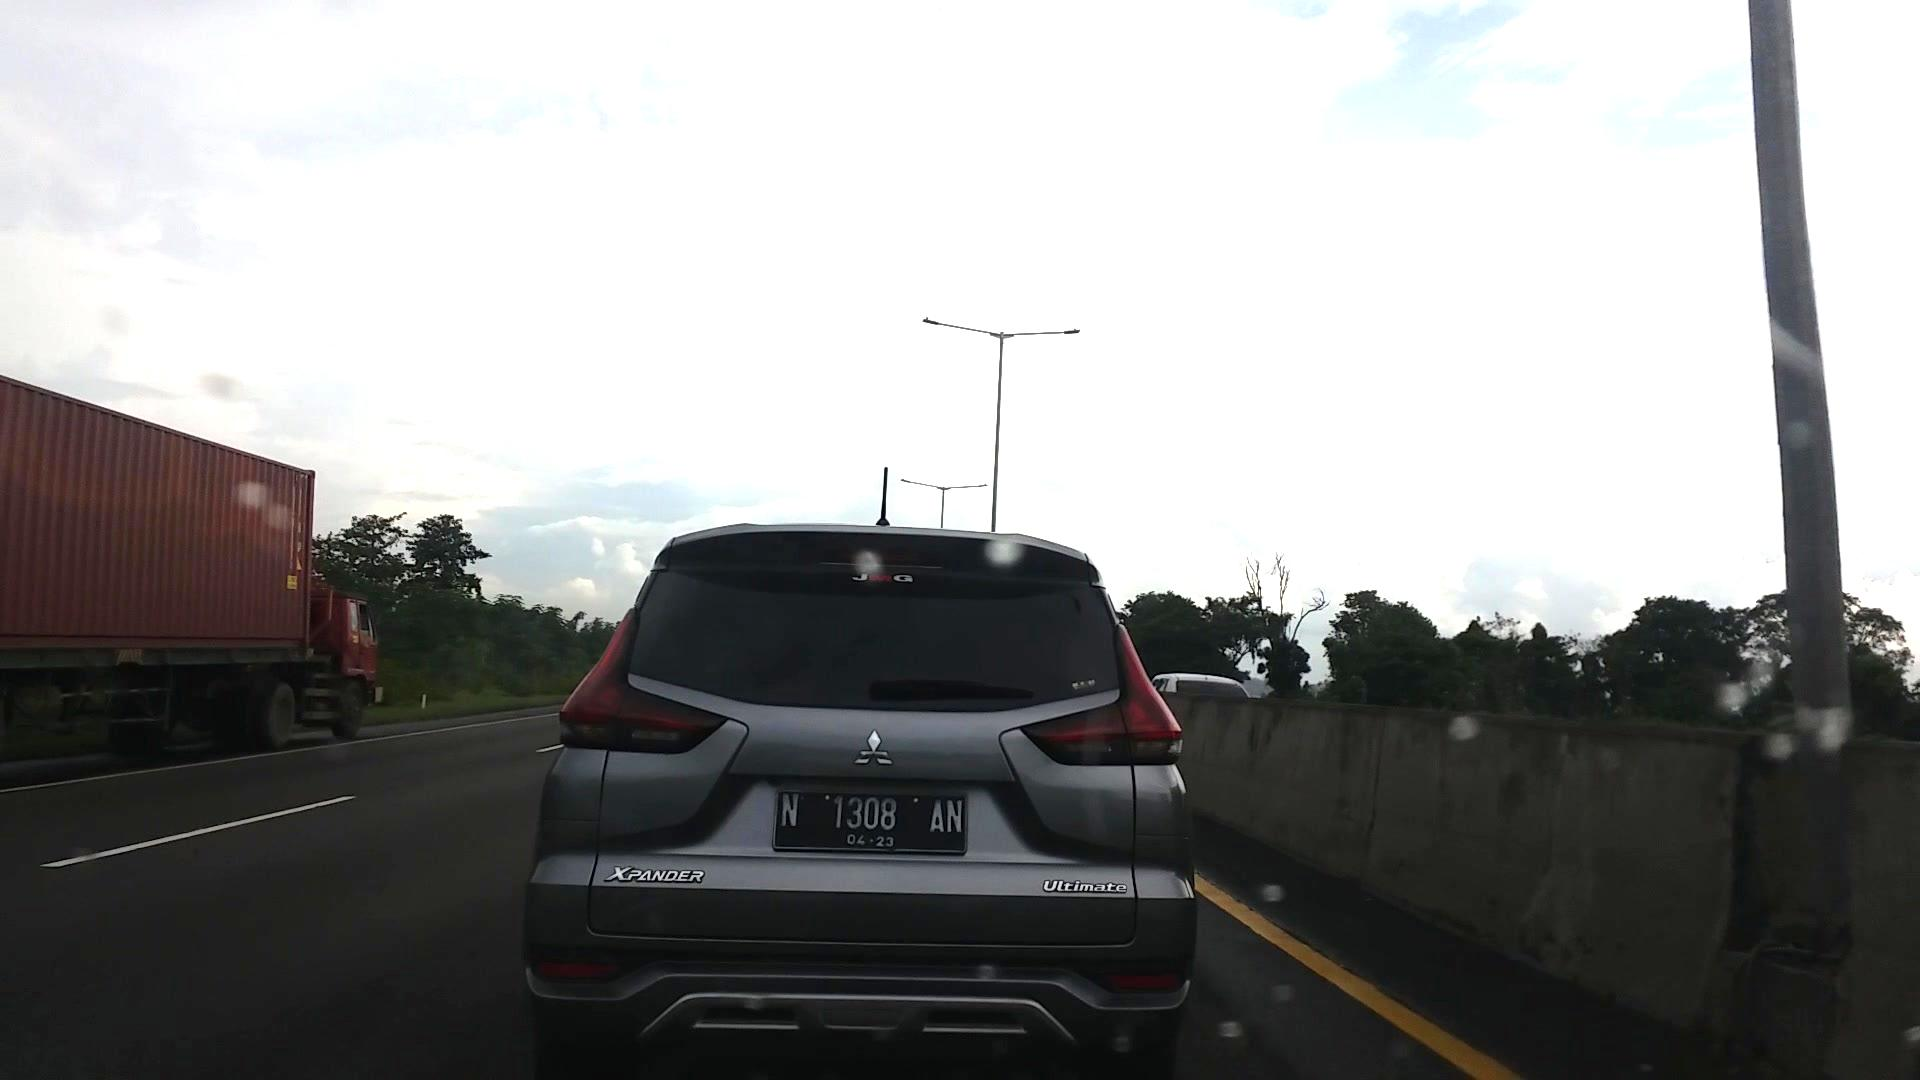plate_positive: (771, 790, 967, 856)
